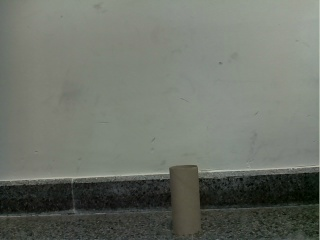rollo papel: (169, 166, 201, 234)
